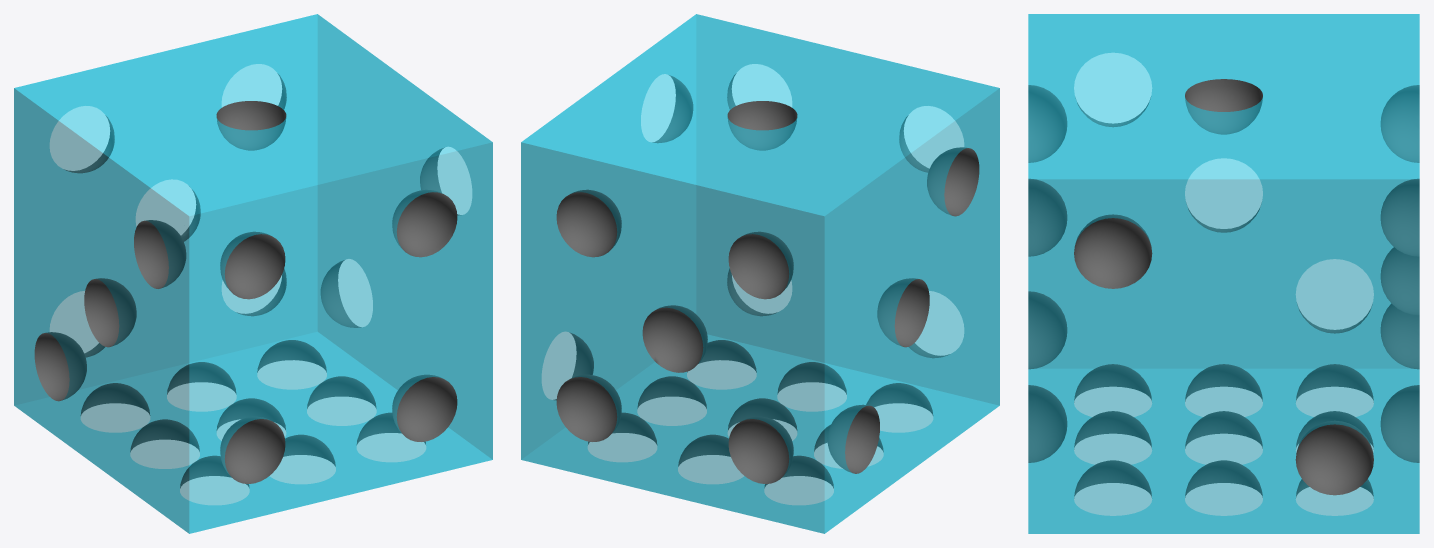
File: dado.glb
3 renders of one model, left to right at view 1: azimuth 30°, elevation 25°; view 2: azimuth 150°, elevation 25°; view 3: azimuth 270°, elevation 25°, orthographic. The views are drawn at different scales.
Visible parts, largest first — view 1: Box001; view 2: Box001; view 3: Box001.
Part boxes in pixels (<box>): Box001: <box>14,14,492,533</box>; Box001: <box>521,14,999,533</box>; Box001: <box>1028,14,1419,533</box>.
Size of the model in its own units: 0.762 by 0.762 by 0.762.
